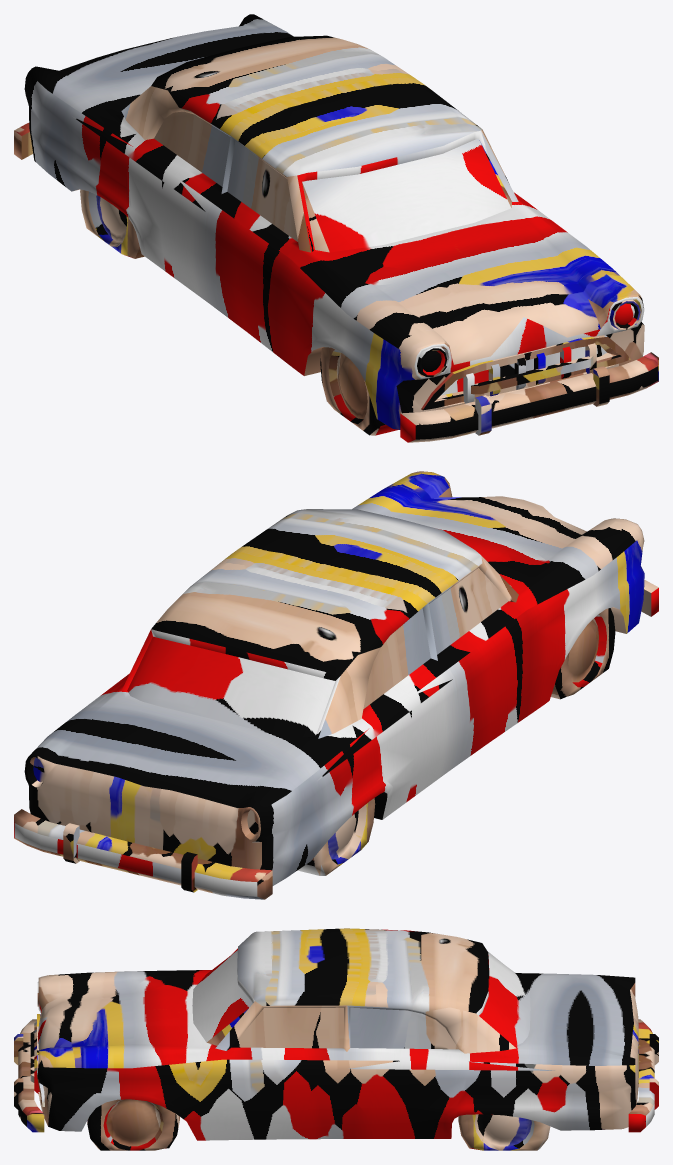
Rendered from car.obj.
3 renders of one model, top to bottom at view 1: azimuth 30°, elevation 25°; view 2: azimuth 150°, elevation 25°; view 3: azimuth 270°, elevation 25°, orthographic. The views are drawn at different scales.
Visible parts, largest first — view 1: old_car_Mesh; view 2: old_car_Mesh; view 3: old_car_Mesh.
Boxes of the visible parts, x1=… form: old_car_Mesh: x1=14, y1=14, x2=658, y2=442; old_car_Mesh: x1=14, y1=471, x2=658, y2=899; old_car_Mesh: x1=14, y1=928, x2=658, y2=1150.
Bounding box in the file's own units: 6.6 × 4.67 × 18.38.
